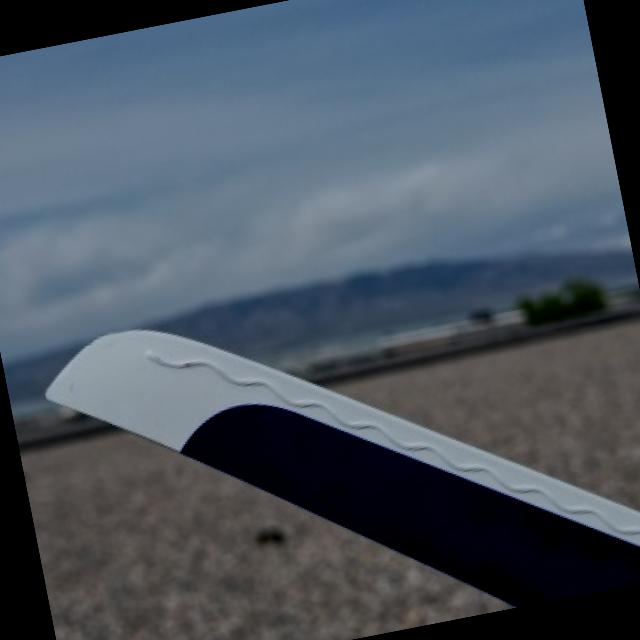healthy: (48, 328, 640, 606)
